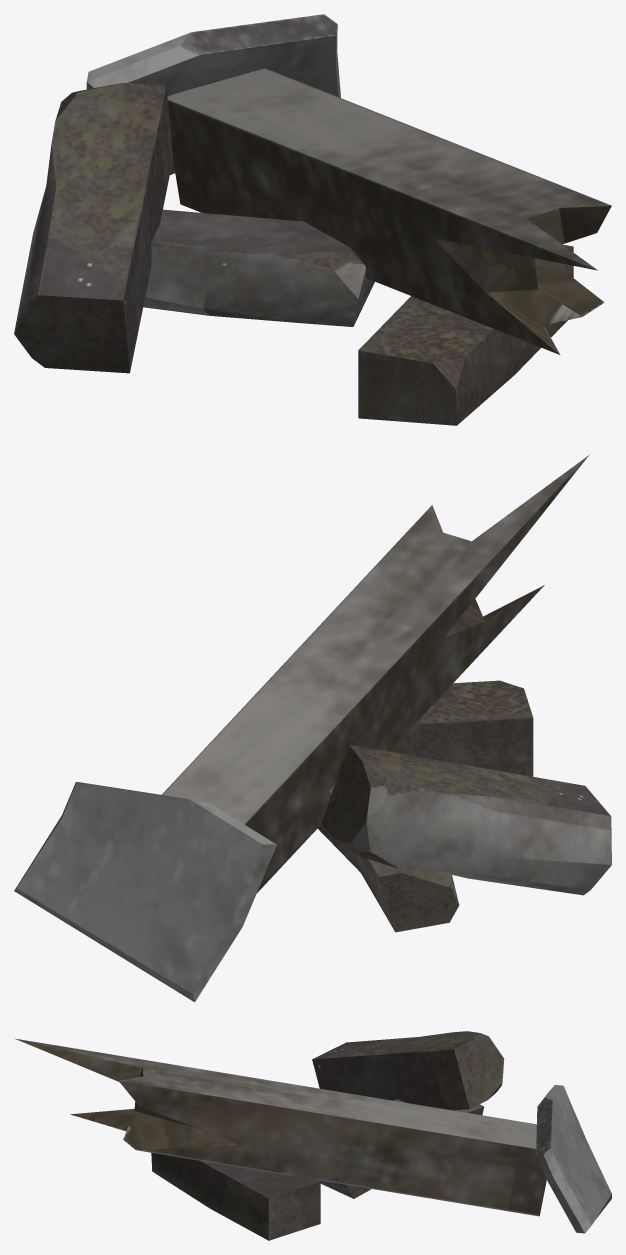
The model's file is House_rubble4.fbx.
The picture shows the model from 3 angles, top to bottom: view 1: azimuth 30°, elevation 25°; view 2: azimuth 150°, elevation 25°; view 3: azimuth 270°, elevation 25°; orthographic projection. The views are drawn at different scales.
Parts seen in each view (by area): view 1: broken_beam.006; view 2: broken_beam.006; view 3: broken_beam.006.
Boxes of the visible parts, <box> form: broken_beam.006: <box>14,14,611,425</box>; broken_beam.006: <box>14,454,611,1002</box>; broken_beam.006: <box>15,1031,611,1240</box>.
Size of the model in its own units: 83.99 by 42.95 by 138.
